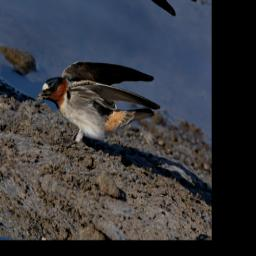Swallow: (27, 26, 168, 185)
